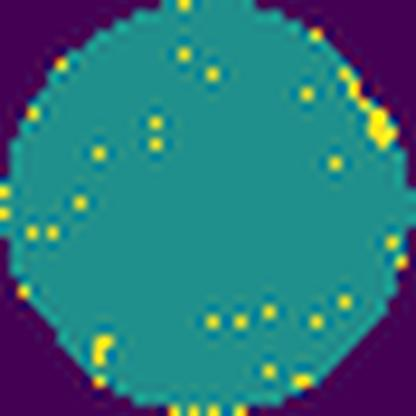Edge-Loc: (337, 69, 402, 150)
